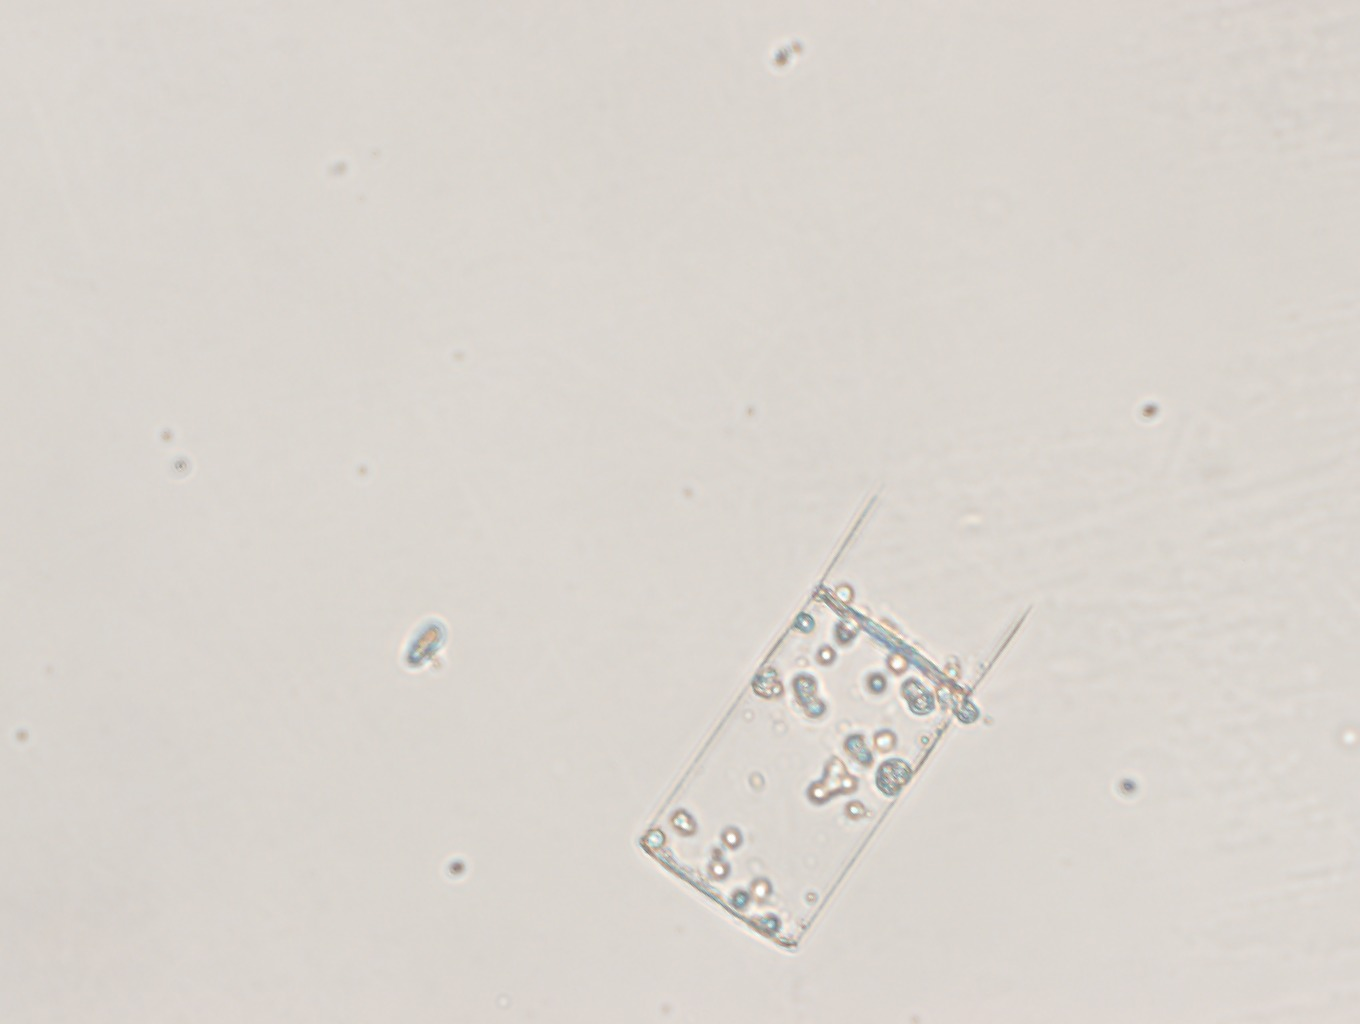guinardia flaccida: (624, 487, 1036, 956)
